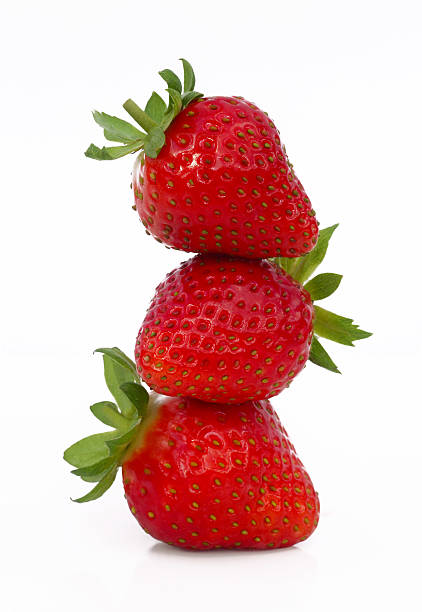Fresa: (112, 382, 330, 556), (129, 88, 321, 263), (131, 253, 320, 410)
